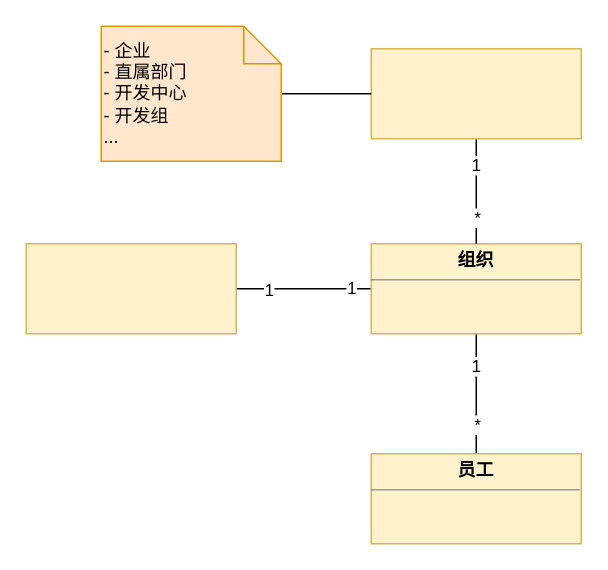
The diagram is 608 pixels wide and 570 high, and some of its shapes have lost their labels. The shapes that lost their labels are listed below. From the top down, each one's box as (x1, y1, x2, y2) in pixels, then its label:
(370, 47, 581, 139): 组织类别
(25, 242, 236, 334): 租户
